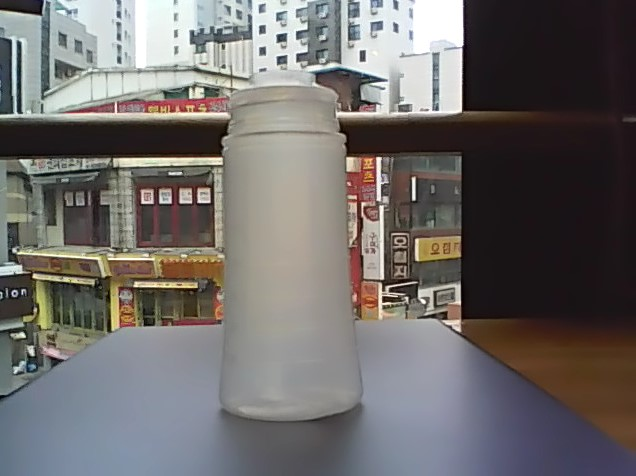Plastic: (218, 68, 371, 427)
